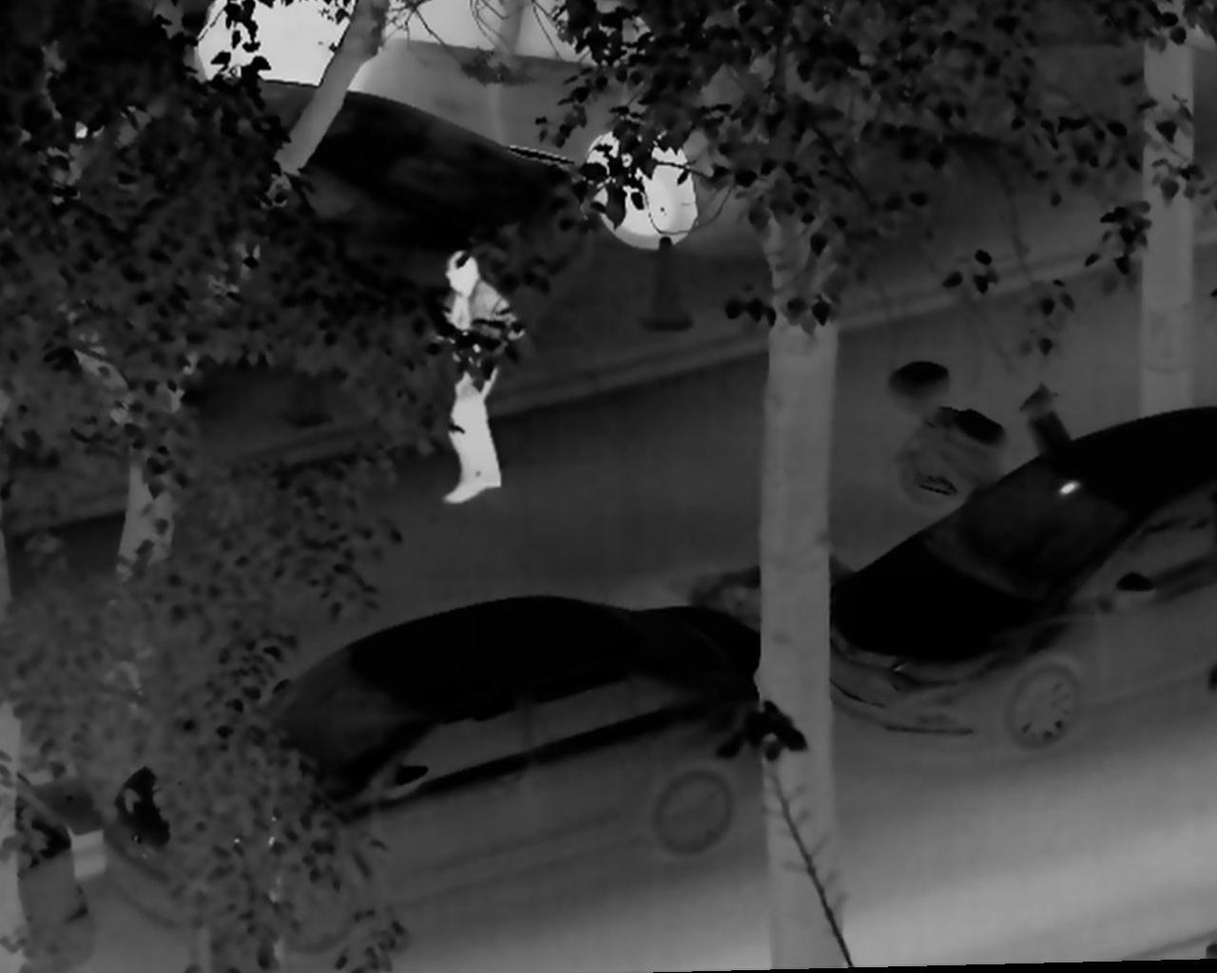person: (407, 252, 526, 511)
